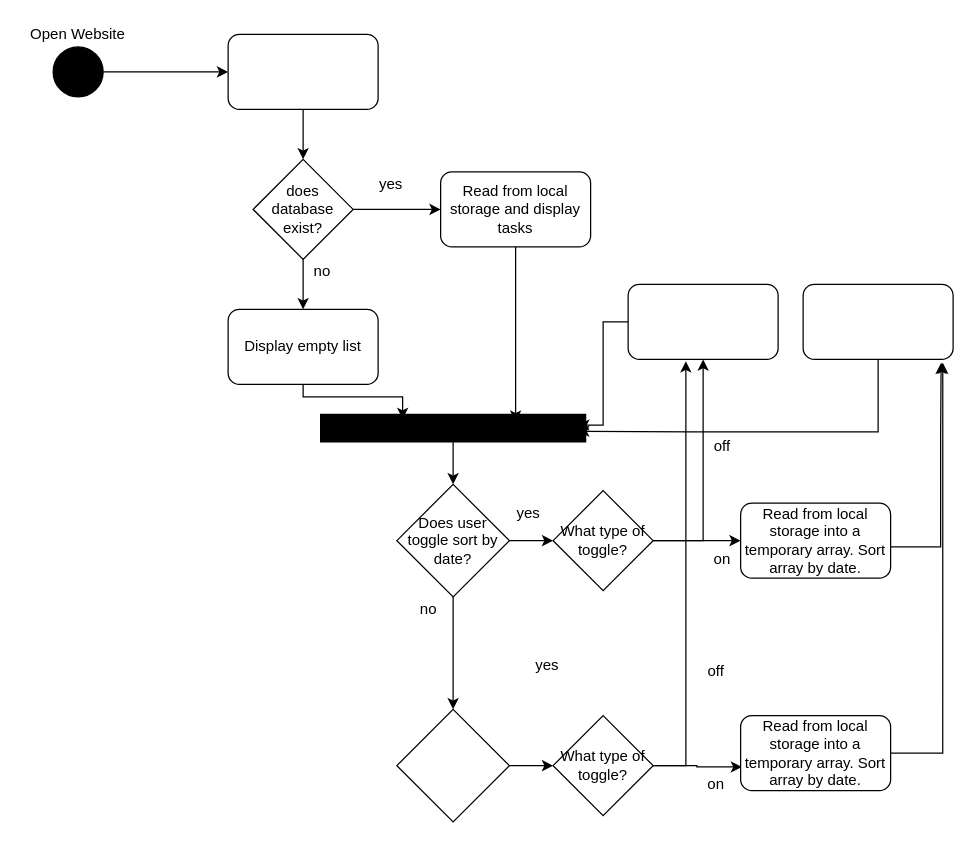
Some shapes in this 975 by 844 pixel diagram are drawn without their labels. Here are the shapes that lost their labels. From the top down, the centre of each, then its label:
At (302,71): "Look for 'database' in local storage".
At (702,321): "Read from local storage and print to DOM, style according to completion status".
At (877,321): "Read from temporary array and print to DOM".
At (452,765): "Does user toggle 'sort by completed?".
